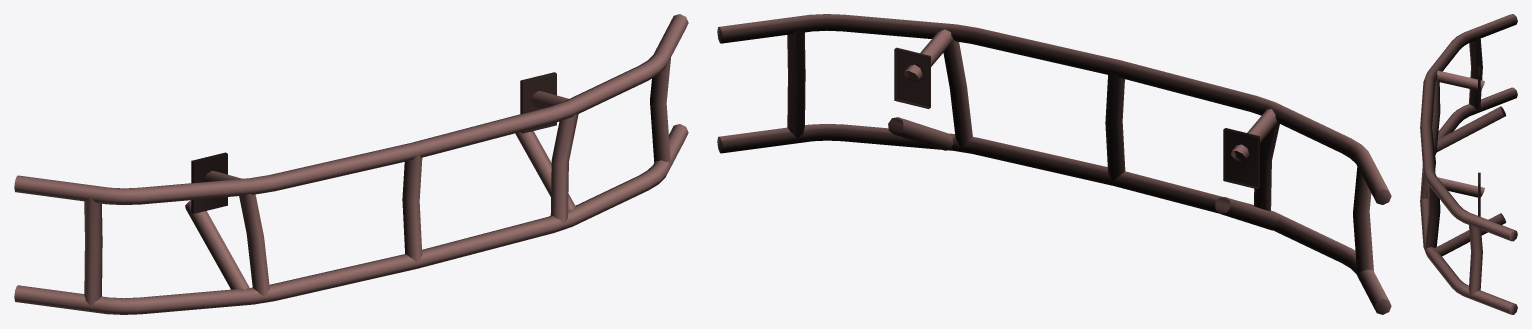
File: G37_FB_BB02_Trim.fbx
3 renders of one model, left to right at view 1: azimuth 30°, elevation 25°; view 2: azimuth 150°, elevation 25°; view 3: azimuth 270°, elevation 25°, orthographic. The views are drawn at different scales.
Visible parts, largest first — view 1: G37_FB_BB02_Trim; view 2: G37_FB_BB02_Trim; view 3: G37_FB_BB02_Trim.
Part boxes in pixels (bbox=[...]): G37_FB_BB02_Trim: bbox=[14, 14, 688, 314]; G37_FB_BB02_Trim: bbox=[717, 14, 1391, 314]; G37_FB_BB02_Trim: bbox=[1420, 14, 1517, 314].
Size of the model in its own units: 174 by 31.08 by 32.65.
